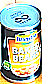beans: (1, 2, 42, 84)
